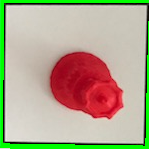Red Queen: (46, 47, 127, 123)
